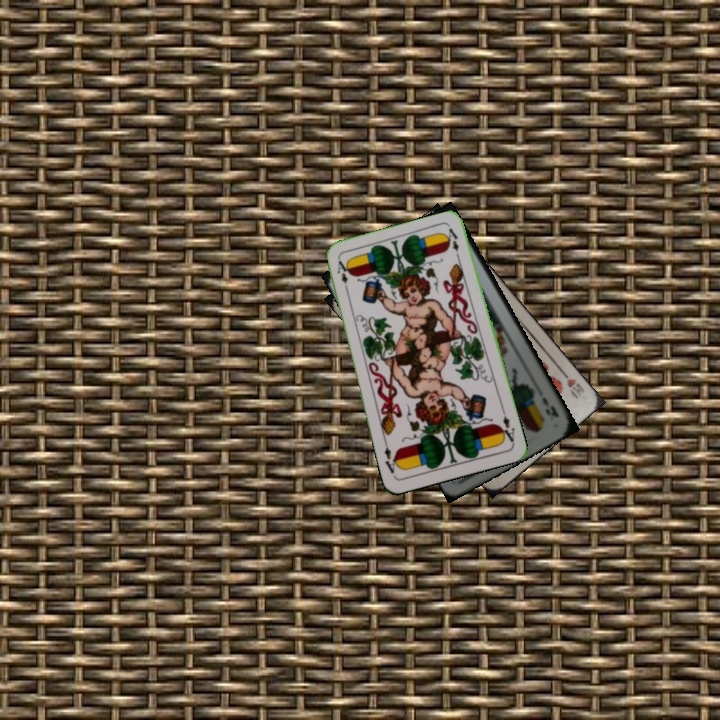EA: (496, 406, 517, 446), (333, 255, 351, 295)
EK: (538, 393, 561, 420)
H10: (556, 365, 587, 402)
